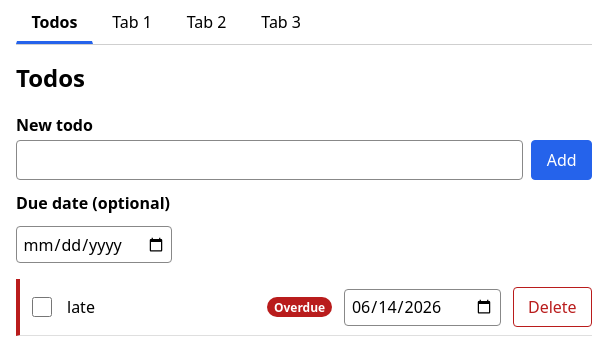
Test case: UI18 toggle › UI18 the checkbox updates immediately, PATCHes {completed}, then takes the server state
Click the checkbox with id "todo-1" at (42, 307), box [32, 297, 52, 317]
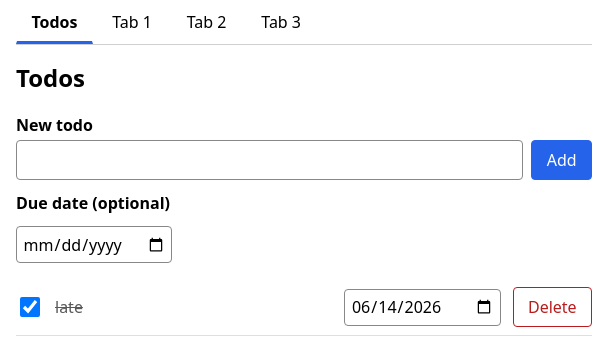
Now the checkbox with id "todo-1" is checked, box [20, 297, 40, 317]
Now the text with class "overdue-badge" is gone
